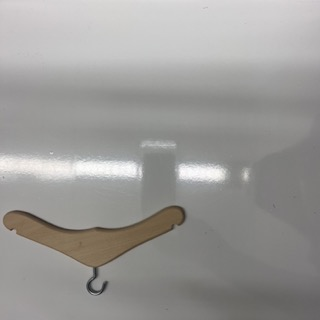rack: (4, 205, 186, 296)
